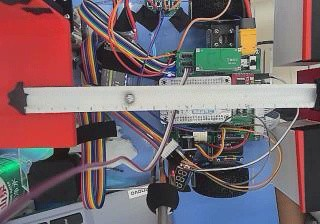ironball: (123, 92, 134, 103)
